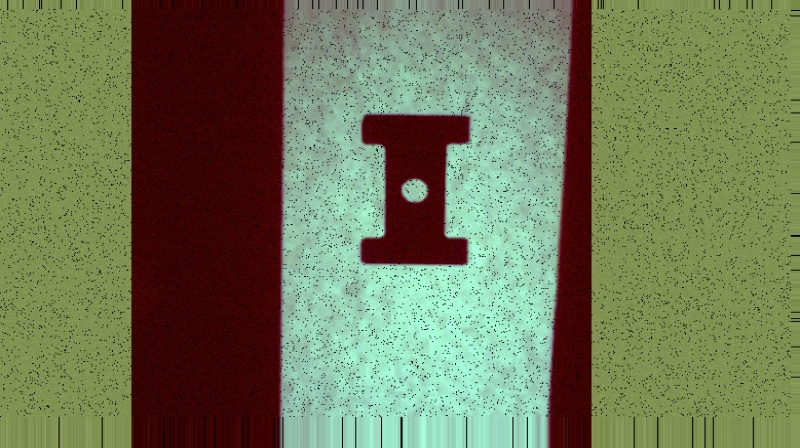O002: (356, 112, 470, 270)
